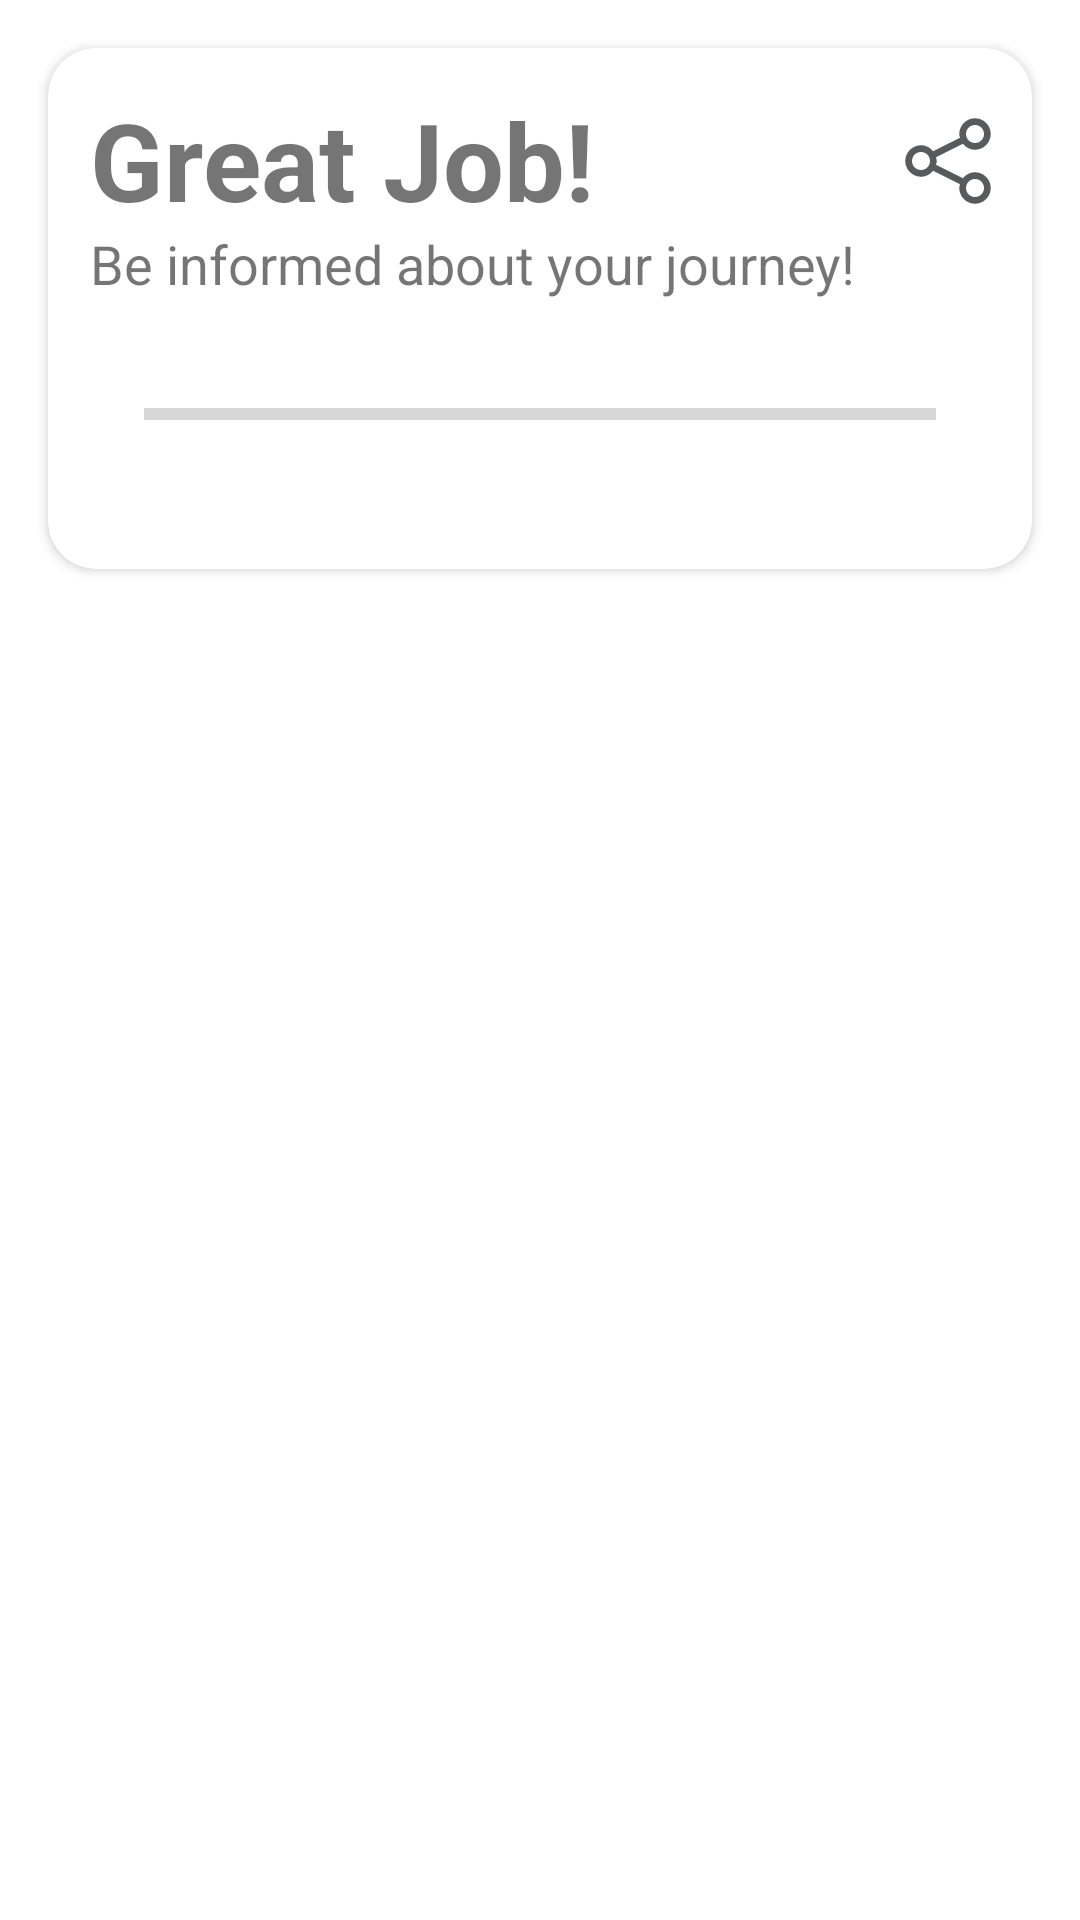

Icon bounding boxes for this 1080 × 1920 phone screenshot, format bbox=(x1, y1, x2, y2):
share: bbox=(905, 118, 991, 204)
